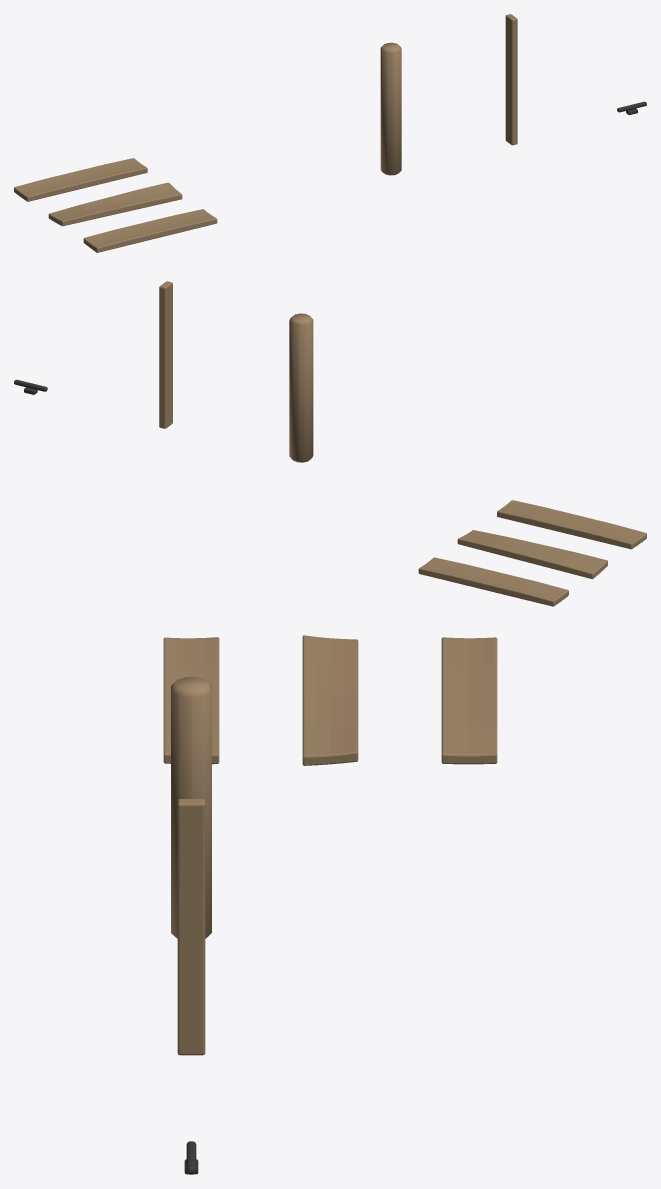
File: jetty.glb
3 views of the same model, one above another, from view 1: azimuth 30°, elevation 25°; view 2: azimuth 150°, elevation 25°; view 3: azimuth 270°, elevation 25° (orthographic). The views are drawn at different scales.
Visible parts, largest first — view 1: post, plank0, plank1, plank2, brace; view 2: post, plank1, plank2, plank0, brace; view 3: brace, plank2, plank1, post, plank0.
Part boxes in pixels (left/top/right/bottom): post: left=380, top=42, right=401, bottom=175; plank0: left=83, top=209, right=217, bottom=252; plank1: left=48, top=182, right=182, bottom=226; plank2: left=14, top=158, right=147, bottom=201; brace: left=505, top=14, right=517, bottom=145; post: left=289, top=313, right=313, bottom=462; plank1: left=457, top=530, right=607, bottom=579; plank2: left=418, top=557, right=568, bottom=606; plank0: left=497, top=500, right=646, bottom=549; brace: left=159, top=281, right=172, bottom=428; brace: left=177, top=799, right=205, bottom=1055; plank2: left=441, top=637, right=497, bottom=764; plank1: left=302, top=635, right=358, bottom=765; post: left=171, top=677, right=211, bottom=938; plank0: left=163, top=637, right=219, bottom=764.
Size of the model in its own units: 4.62 by 1.03 by 1.2.
